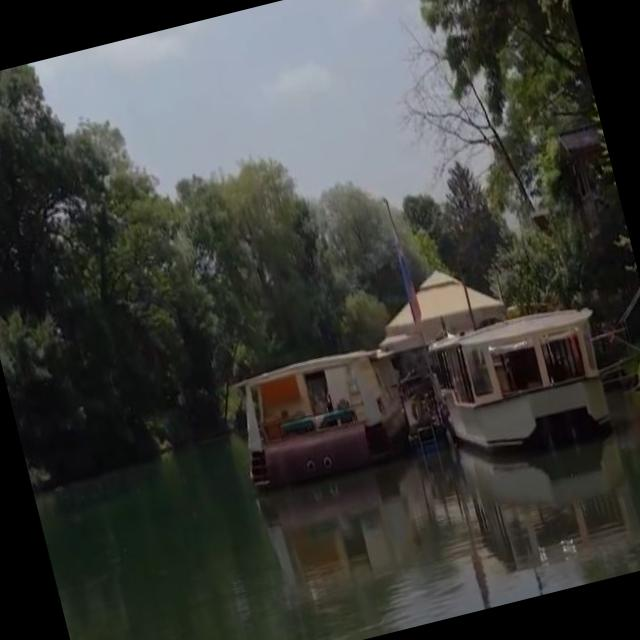boat: (216, 330, 421, 508)
